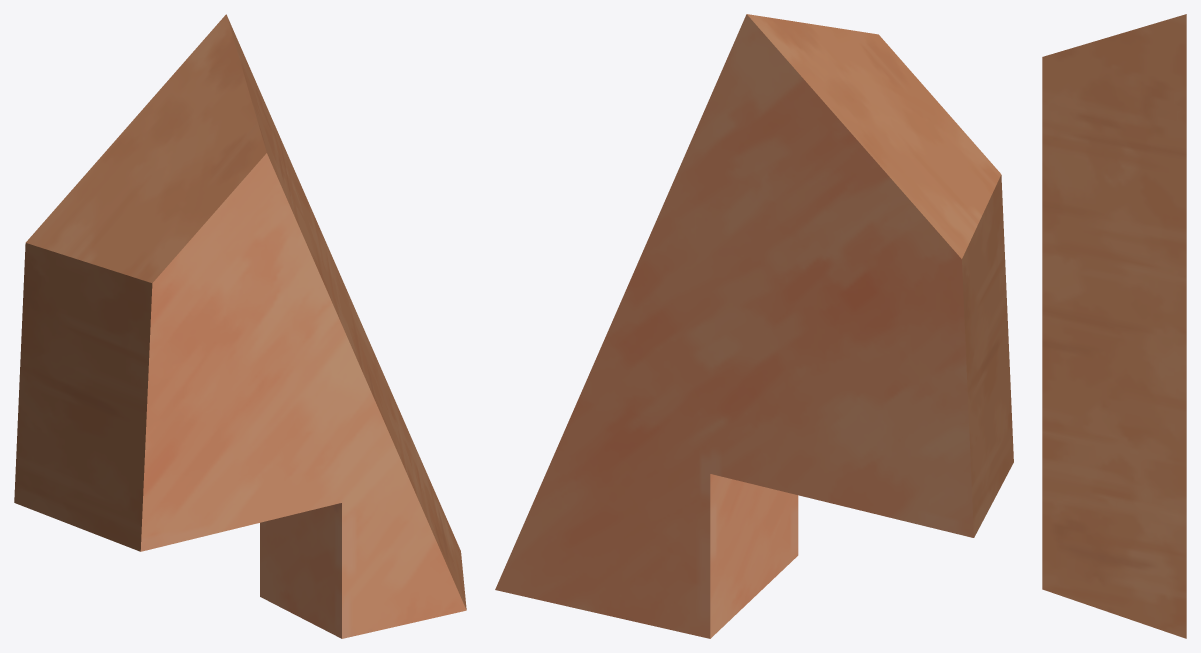
Rendered from wall_door_s06.fbx.
3 renders of one model, left to right at view 1: azimuth 30°, elevation 25°; view 2: azimuth 150°, elevation 25°; view 3: azimuth 270°, elevation 25°, orthographic. The views are drawn at different scales.
Parts seen in each view (by area): view 1: wall_door_s06; view 2: wall_door_s06; view 3: wall_door_s06.
Part boxes in pixels (box(x1,y1,x2,y2)): wall_door_s06: box(14, 14, 466, 638); wall_door_s06: box(495, 14, 1013, 638); wall_door_s06: box(1042, 14, 1186, 638).
Bounding box in the file's own units: 3.15 × 4.01 × 1.
